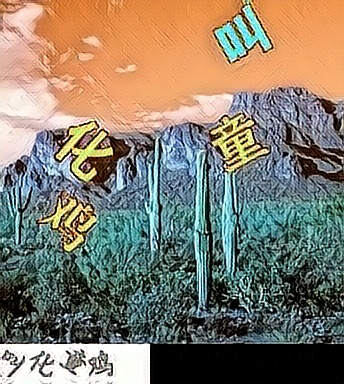BBAF: (51, 117, 114, 183)
BCA6: (38, 189, 101, 255)
BDD0: (211, 2, 274, 68)
CDAF: (208, 107, 271, 173)
